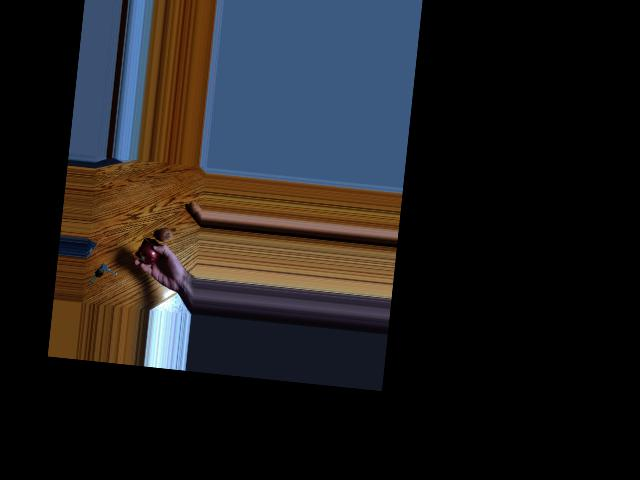onion: (156, 225, 173, 248)
